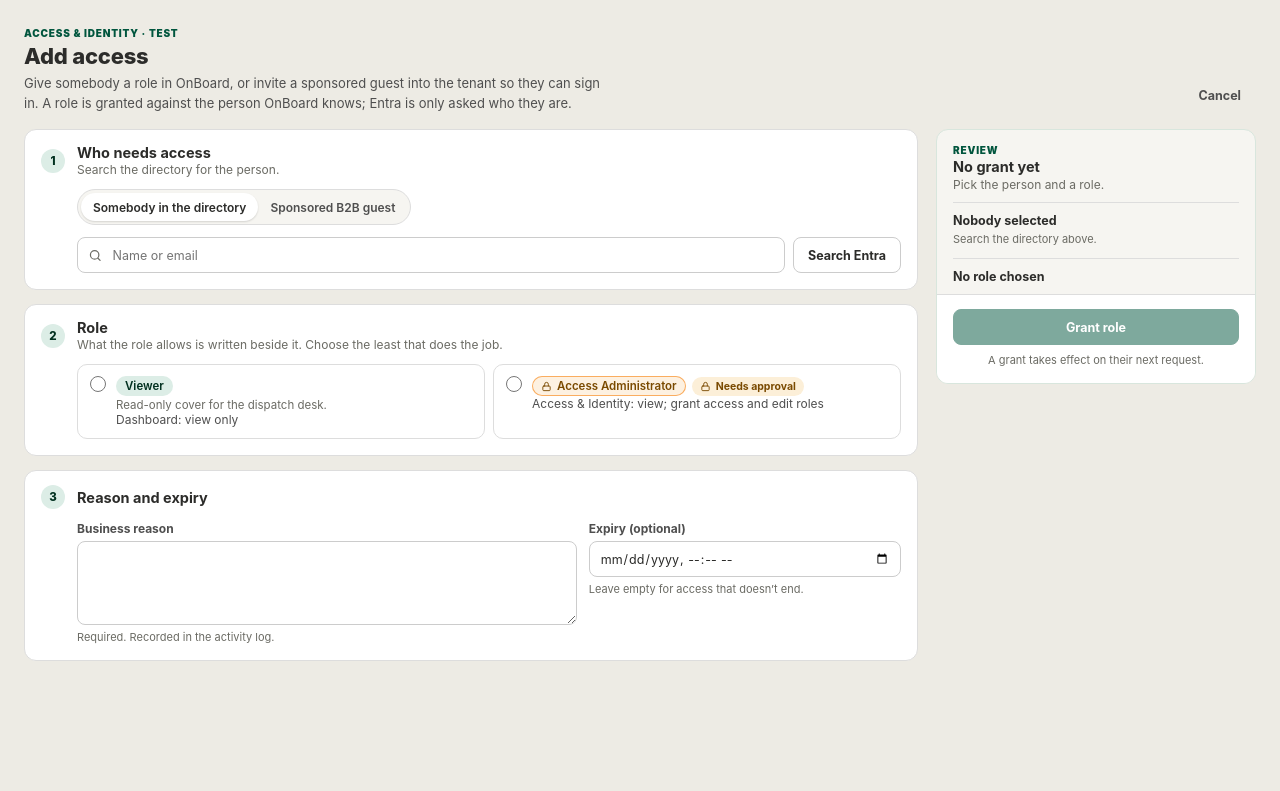
it: Add access › finds somebody in Entra and grants the role against the person OnBoard knows
Type "Taylor" into the search field named "Search Entra directory" at [442, 255], box [110,247,774,264]
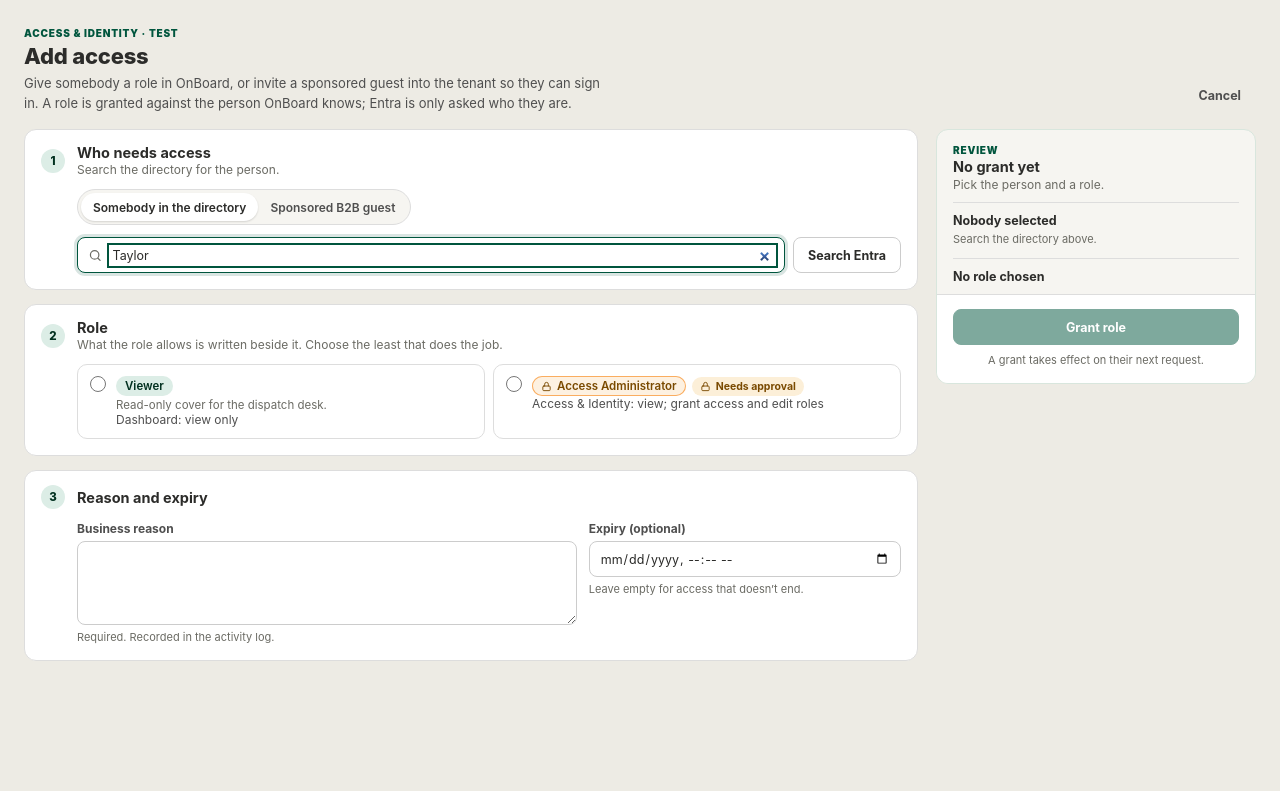
Click the button "Search Entra" at [847, 255], box [793,237,901,273]
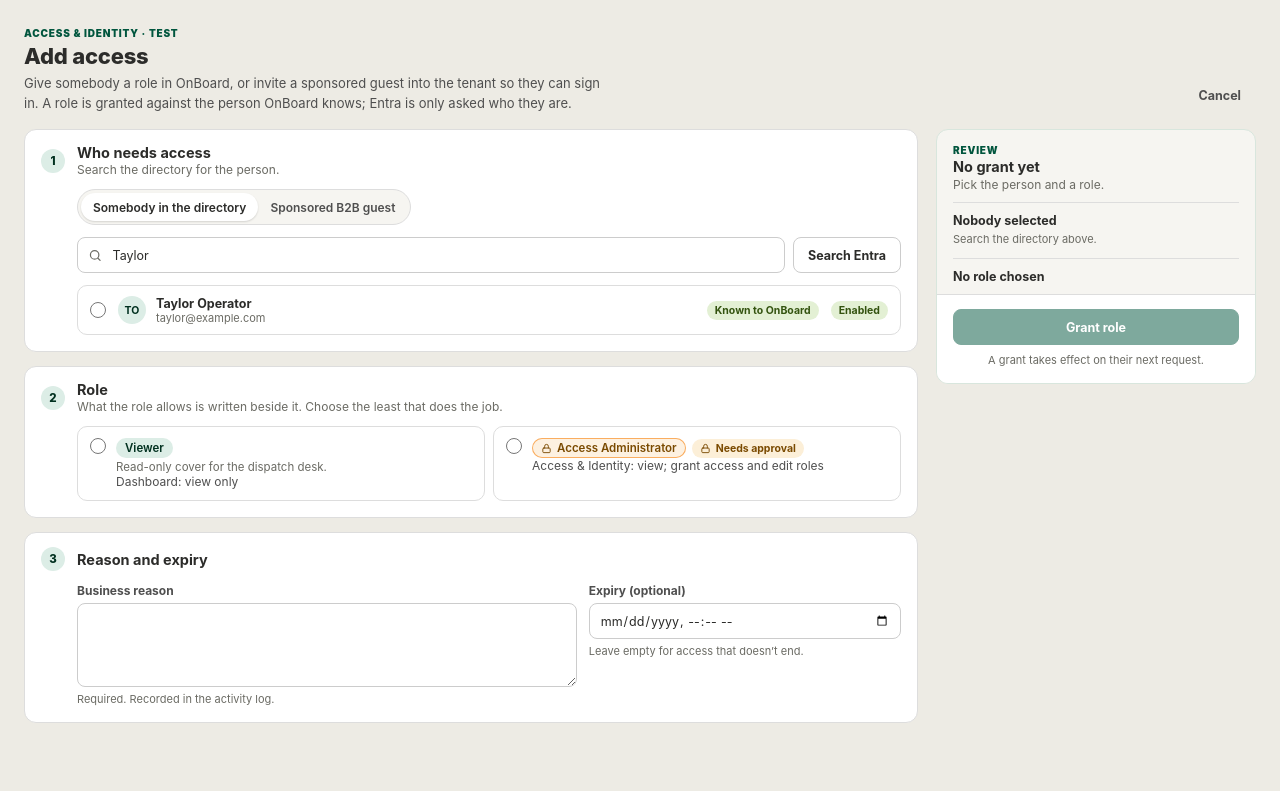
Click the radio button labelled "Taylor Operator" at [98, 310], box [90,302,106,318]
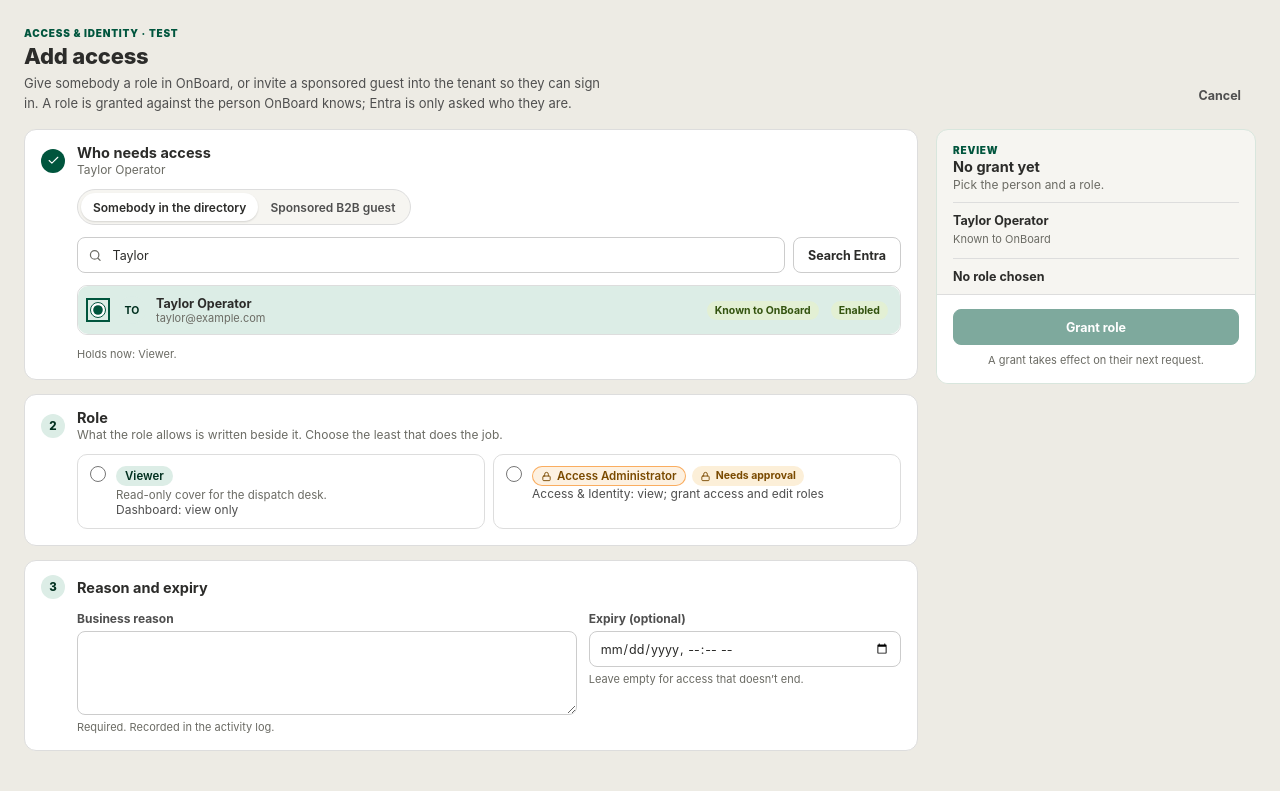
Expected: the text "Read-only cover for the dispatch desk." is shown, [116,488,327,502]
Click the radio button labelled "Viewer" at [98, 474], box [90,466,106,482]
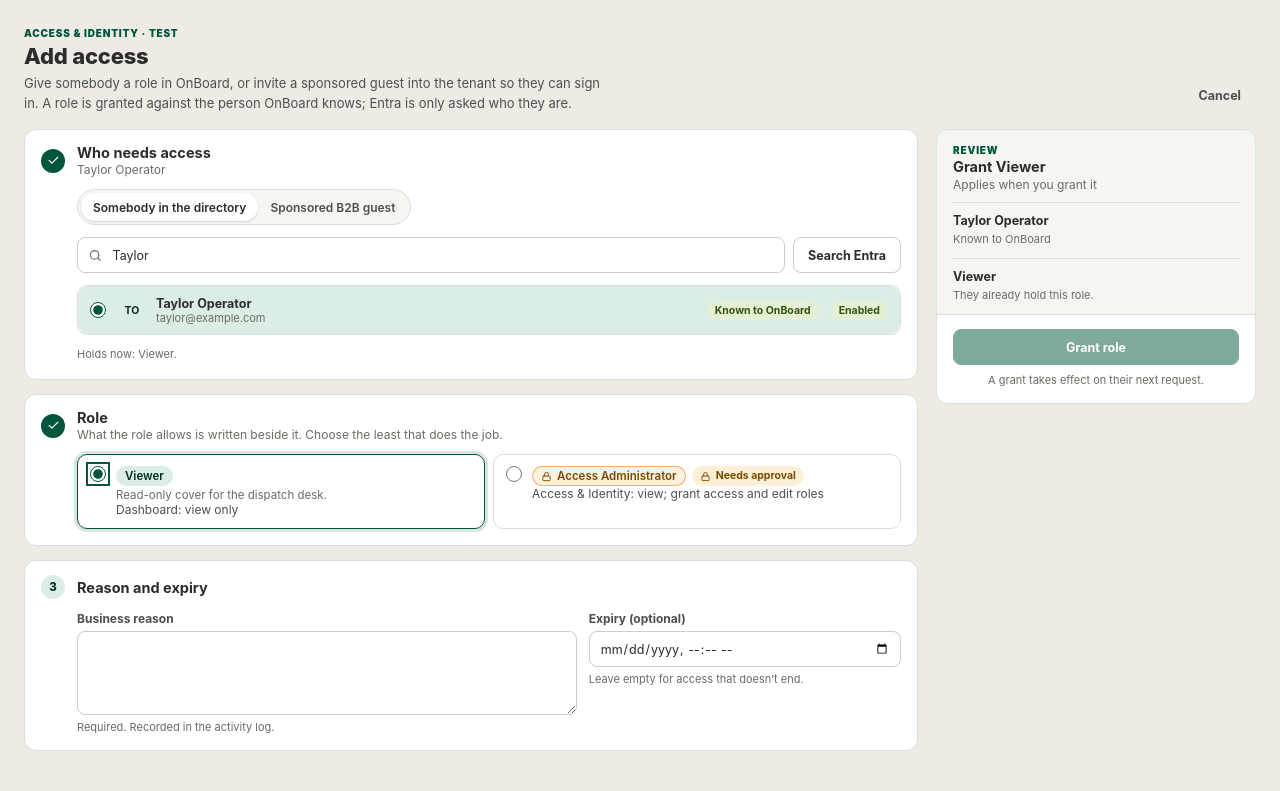
Type "Weekend cover" into the text box labelled "Business reason Required. Recorded in the activity log." at [327, 673], box [77,631,577,715]
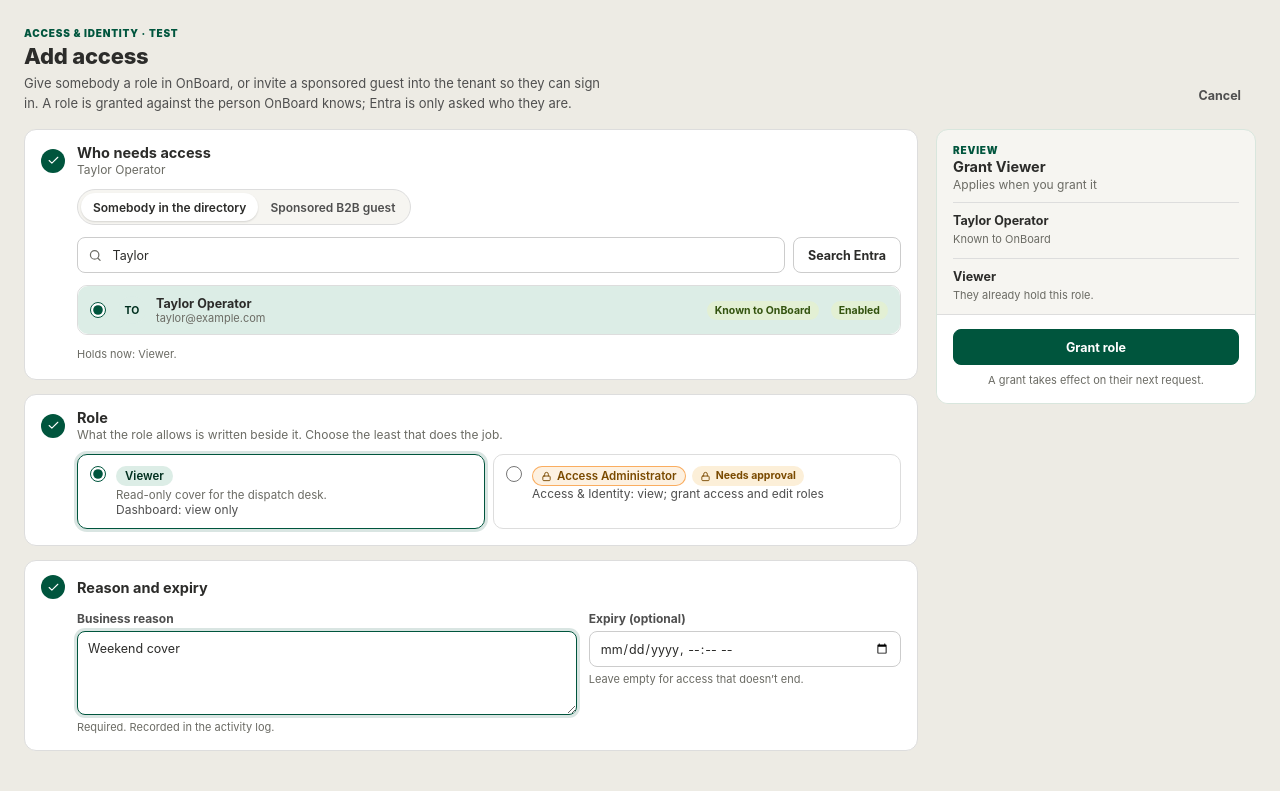
Click the button "Grant role" at [1096, 347], box [953,329,1239,365]
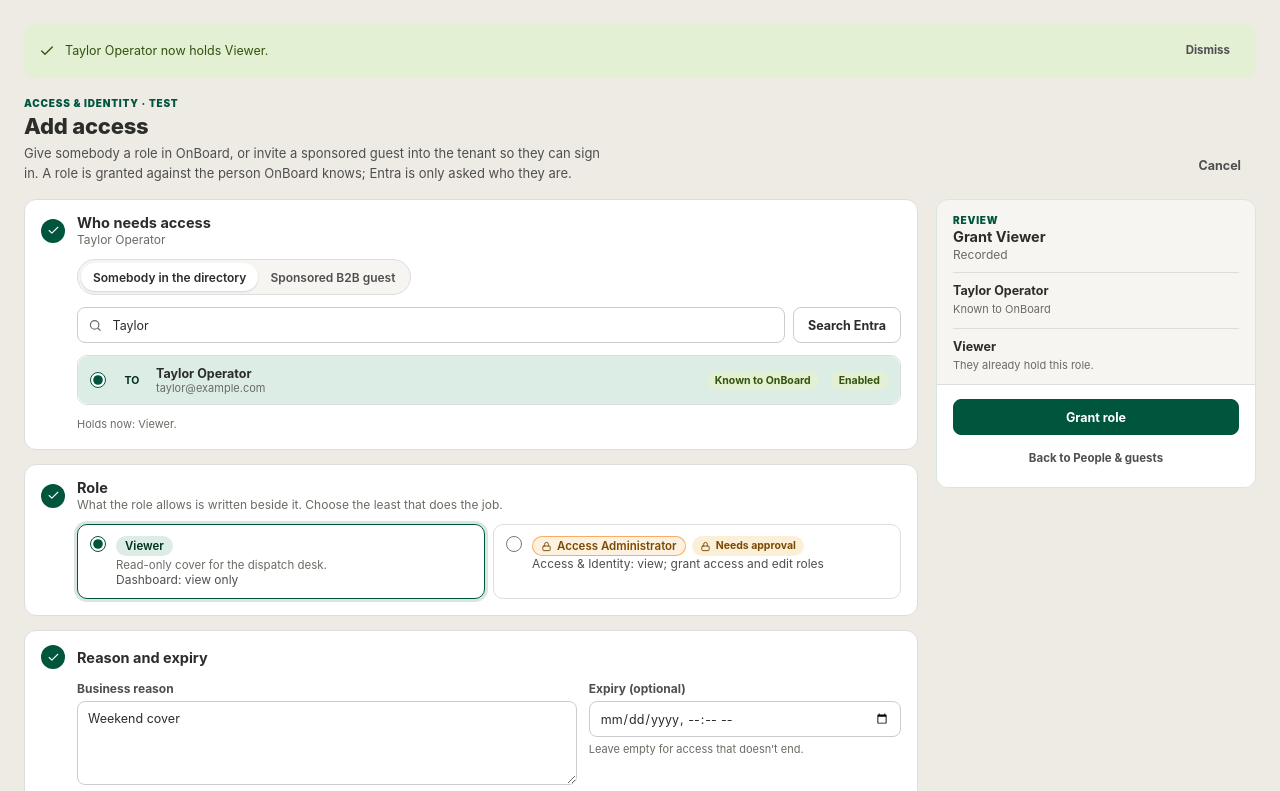
Result: the text "Taylor Operator now holds Viewer." is shown at [65,43,268,58]
